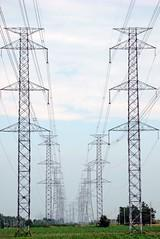power_tower: (105, 25, 160, 239), (0, 23, 52, 238)
